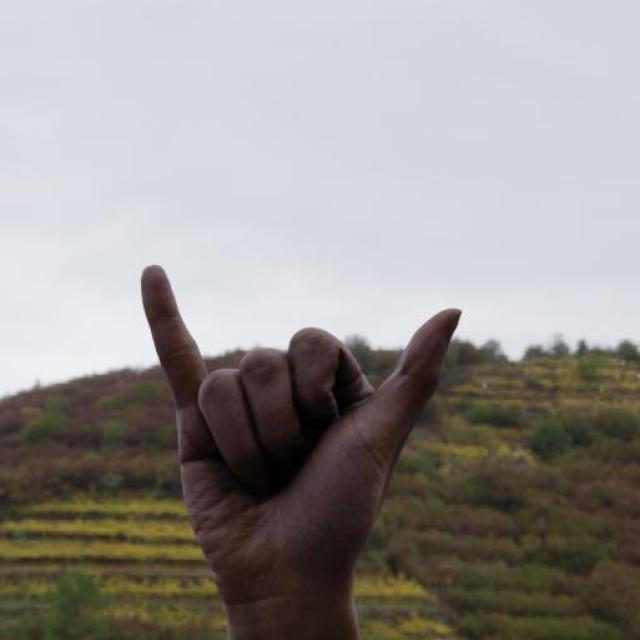Y: (115, 259, 469, 622)
